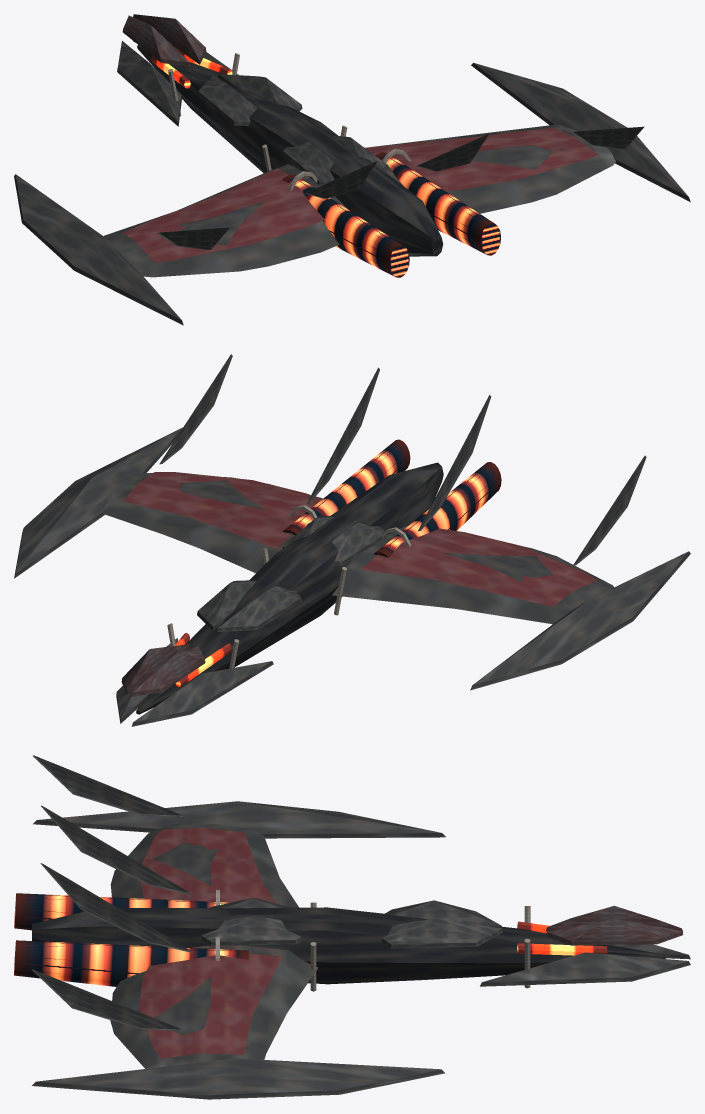
Rendered from dynasty_courier_recreated_lod2.glb.
3 renders of one model, top to bottom at view 1: azimuth 30°, elevation 25°; view 2: azimuth 150°, elevation 25°; view 3: azimuth 270°, elevation 25°, orthographic. The views are drawn at different scales.
Visible parts, largest first — view 1: dynasty_courier_far_source; view 2: dynasty_courier_far_source; view 3: dynasty_courier_far_source.
Part boxes in pixels (box(x1,y1,x2,y2)): dynasty_courier_far_source: box(14, 14, 690, 325); dynasty_courier_far_source: box(14, 354, 690, 726); dynasty_courier_far_source: box(14, 755, 690, 1099).
Bounding box in the file's own units: 1.42 × 0.3416 × 1.41.
Materials: 1 (1 with a texture image).
